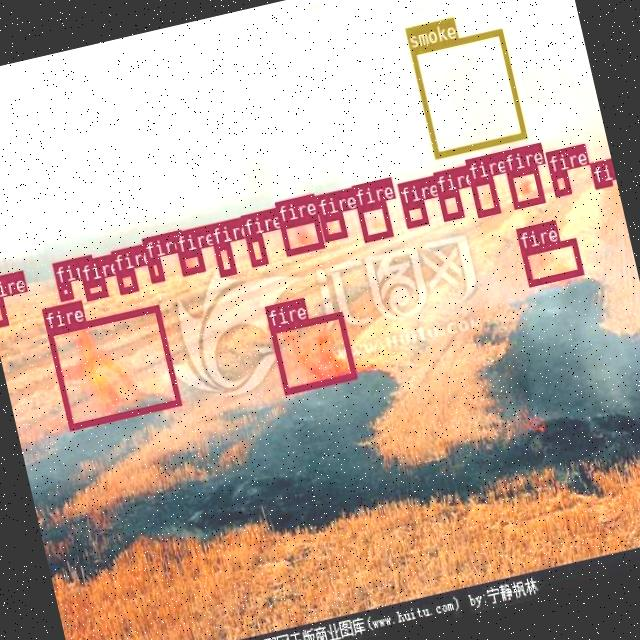fire: (46, 304, 181, 430), (268, 311, 356, 394), (519, 236, 582, 286), (278, 213, 322, 254), (505, 165, 544, 208), (356, 200, 391, 240), (468, 174, 499, 216), (318, 210, 346, 240), (212, 240, 235, 276), (244, 232, 267, 265), (438, 188, 462, 218), (177, 248, 204, 274), (588, 158, 611, 188), (402, 200, 427, 226), (82, 278, 106, 300), (548, 170, 570, 194), (115, 268, 136, 292), (146, 257, 164, 281), (56, 282, 73, 300), (0, 296, 8, 326)
smoke: (408, 28, 526, 158)
